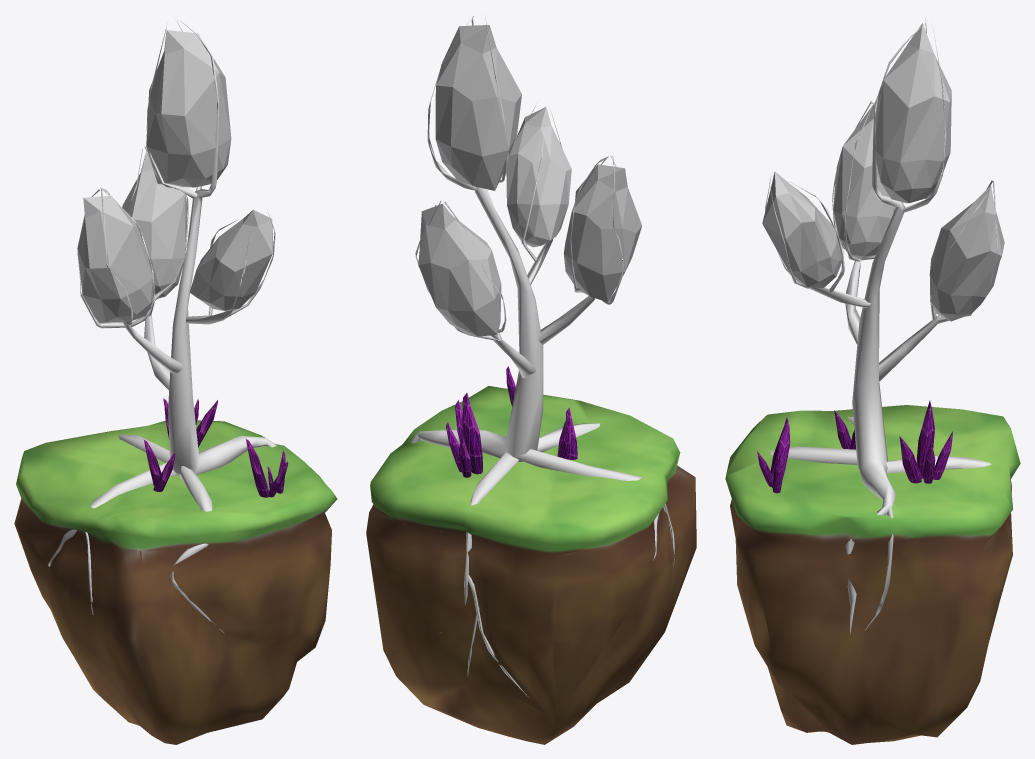
File: floating tree3.fbx
3 renders of one model, left to right at view 1: azimuth 30°, elevation 25°; view 2: azimuth 150°, elevation 25°; view 3: azimuth 270°, elevation 25°, orthographic. The views are drawn at different scales.
Parts seen in each view (by area): view 1: rock1HP.004, NurbsPath.031, Icosphere.059, Icosphere.060, Icosphere.061, Icosphere.062, Icosphere.067; view 2: rock1HP.004, NurbsPath.031, Icosphere.059, Icosphere.062, Icosphere.060, Icosphere.061, Icosphere.063; view 3: rock1HP.004, NurbsPath.031, Icosphere.059, Icosphere.062, Icosphere.061, Icosphere.060, Icosphere.063, Icosphere.067, Icosphere.066.
Part boxes in pixels (bbox=[...]): rock1HP.004: bbox=[14, 420, 337, 744]; NurbsPath.031: bbox=[48, 18, 277, 633]; Icosphere.059: bbox=[146, 30, 231, 187]; Icosphere.060: bbox=[77, 195, 153, 323]; Icosphere.061: bbox=[189, 209, 273, 311]; Icosphere.062: bbox=[122, 151, 187, 298]; Icosphere.067: bbox=[245, 438, 269, 497]; rock1HP.004: bbox=[366, 386, 696, 744]; NurbsPath.031: bbox=[411, 16, 674, 697]; Icosphere.059: bbox=[435, 25, 521, 190]; Icosphere.062: bbox=[418, 203, 501, 336]; Icosphere.060: bbox=[563, 164, 641, 302]; Icosphere.061: bbox=[506, 107, 571, 247]; Icosphere.063: bbox=[462, 392, 482, 474]; rock1HP.004: bbox=[725, 405, 1020, 744]; NurbsPath.031: bbox=[765, 17, 998, 634]; Icosphere.059: bbox=[874, 23, 951, 203]; Icosphere.062: bbox=[929, 185, 1004, 321]; Icosphere.061: bbox=[762, 171, 842, 287]; Icosphere.060: bbox=[833, 102, 894, 259]; Icosphere.063: bbox=[916, 400, 934, 478]; Icosphere.067: bbox=[770, 416, 790, 479]; Icosphere.066: bbox=[899, 436, 921, 483].
Bounding box in the file's own units: 726 × 1919 × 717.
